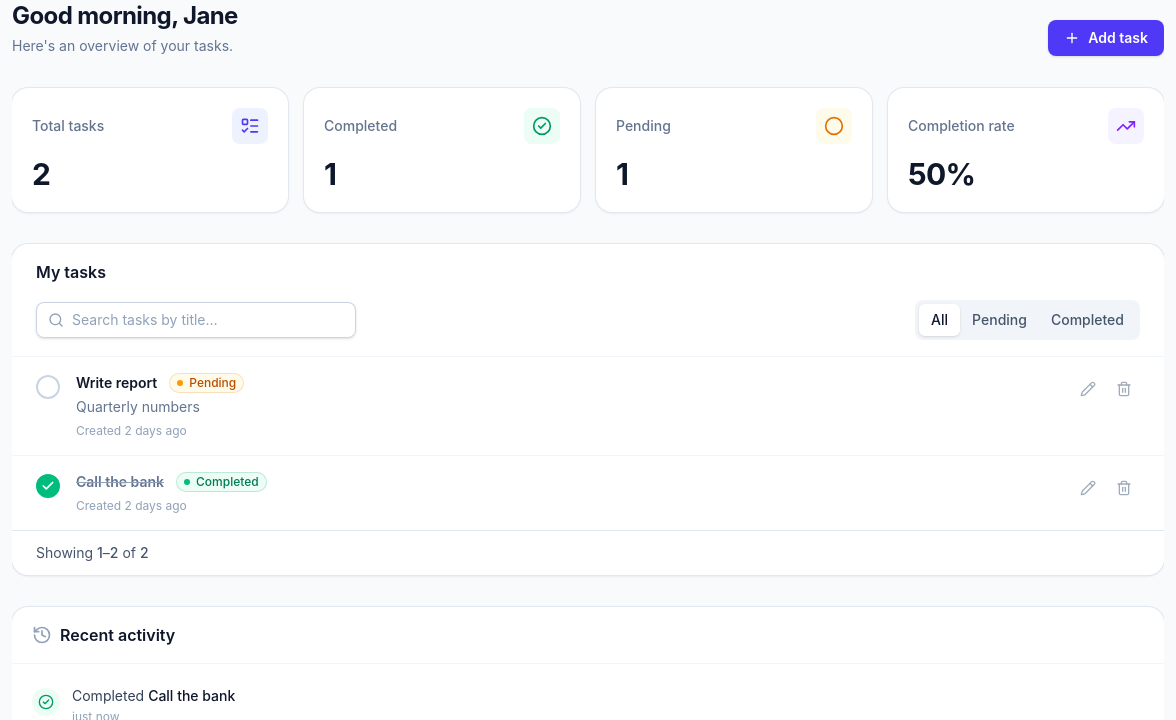
Test: DashboardPage › filters by status and resets to page 1
expect the list named "Tasks" is shown: met, box [12,357,1164,530]
Click the button "Pending" at (1000, 320), box [960,304,1039,336]
(page scrolled)
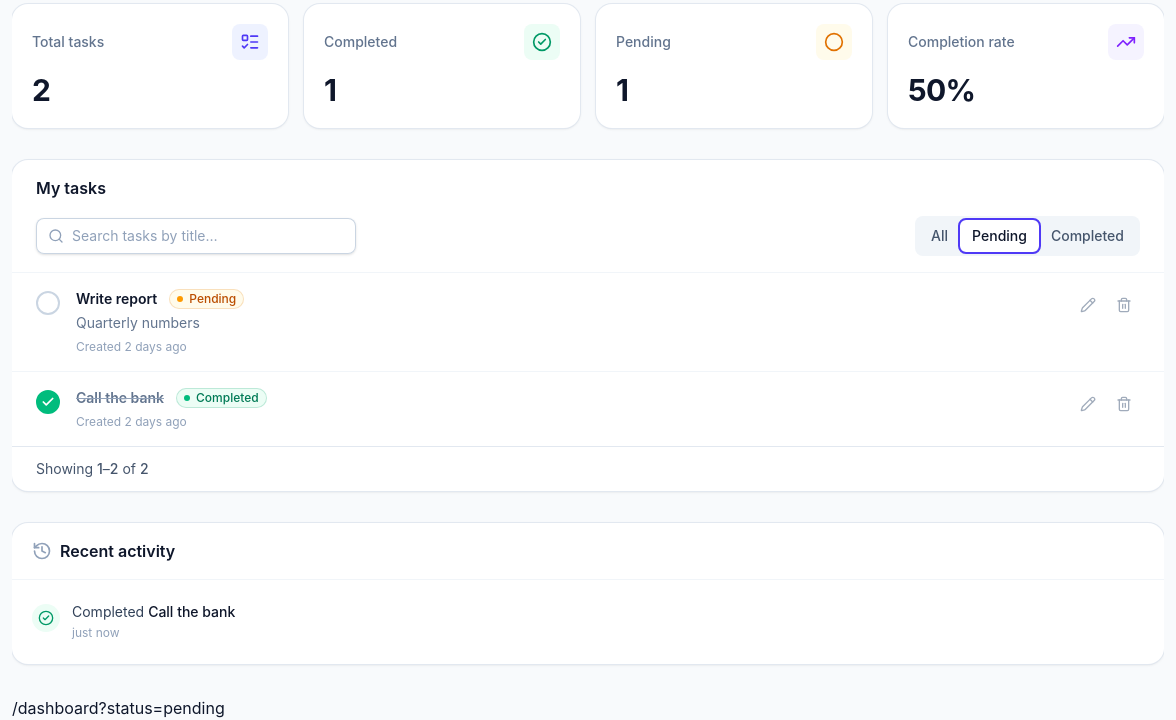
expect the text with test id "location" reads "/dashboard?status=pending": met, box [12,698,225,718]
